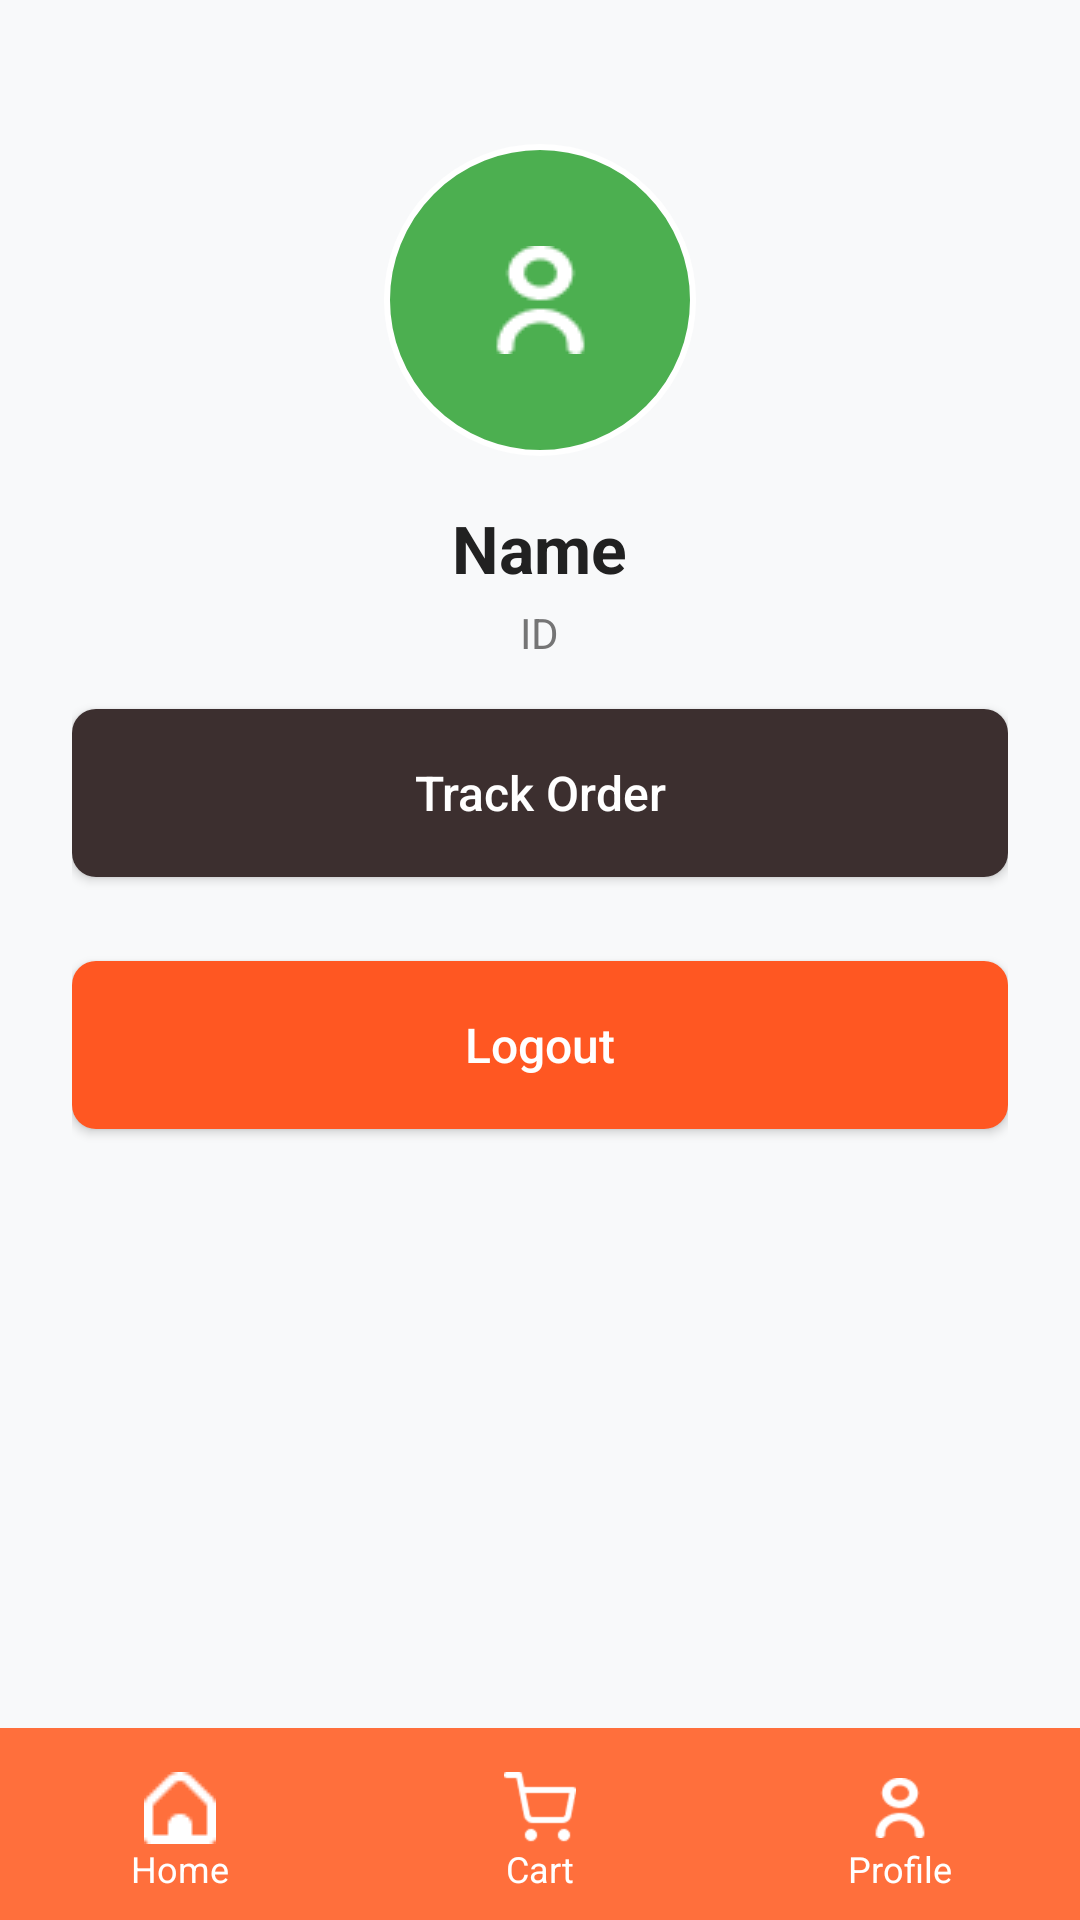

Point at icon controls on the screen. Image size 1080 x 1920, points as [x,y].
user: [900,1808]
User avatar: [540,300]
